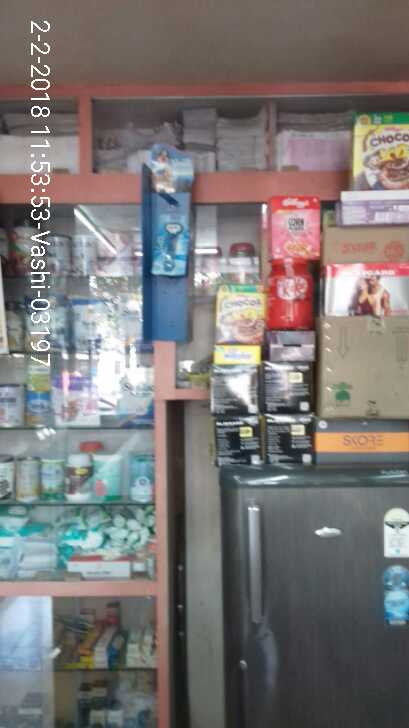venus: (149, 190, 193, 284)
